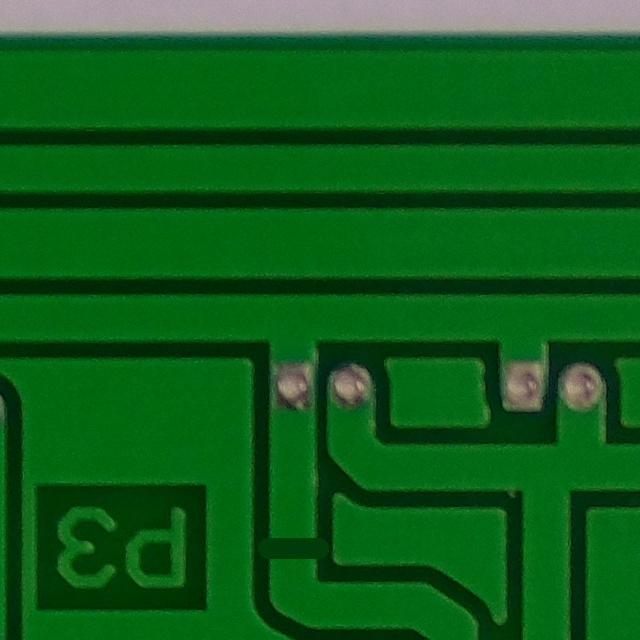open_circuit: (255, 521, 330, 582)
